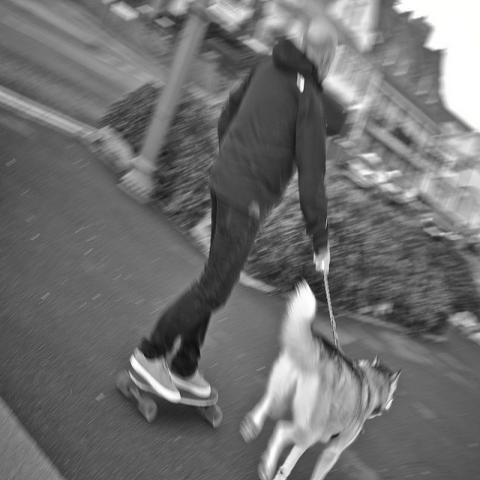car: (356, 153, 384, 165)
